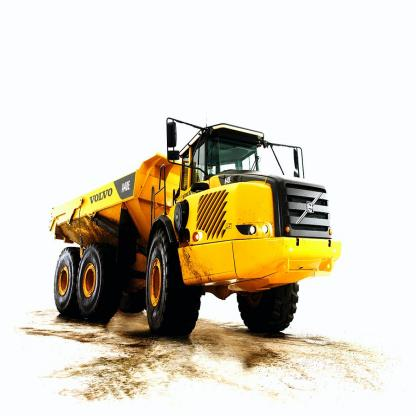dump_truck: (40, 116, 340, 354)
